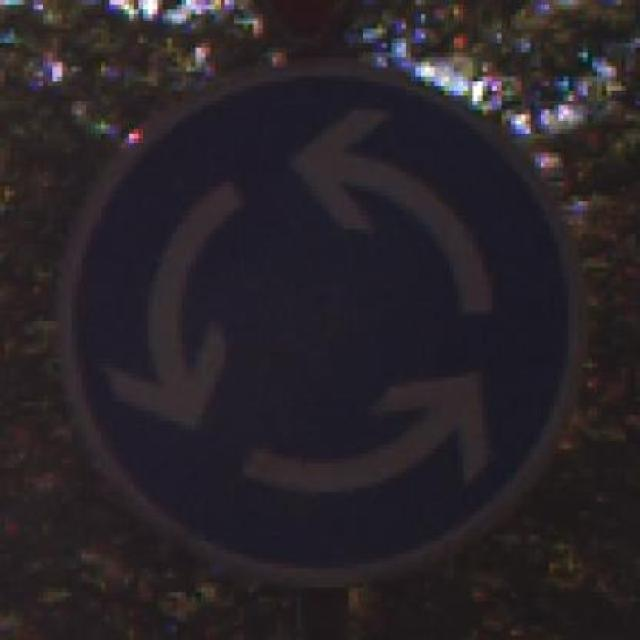Round-About: (19, 33, 607, 607)
